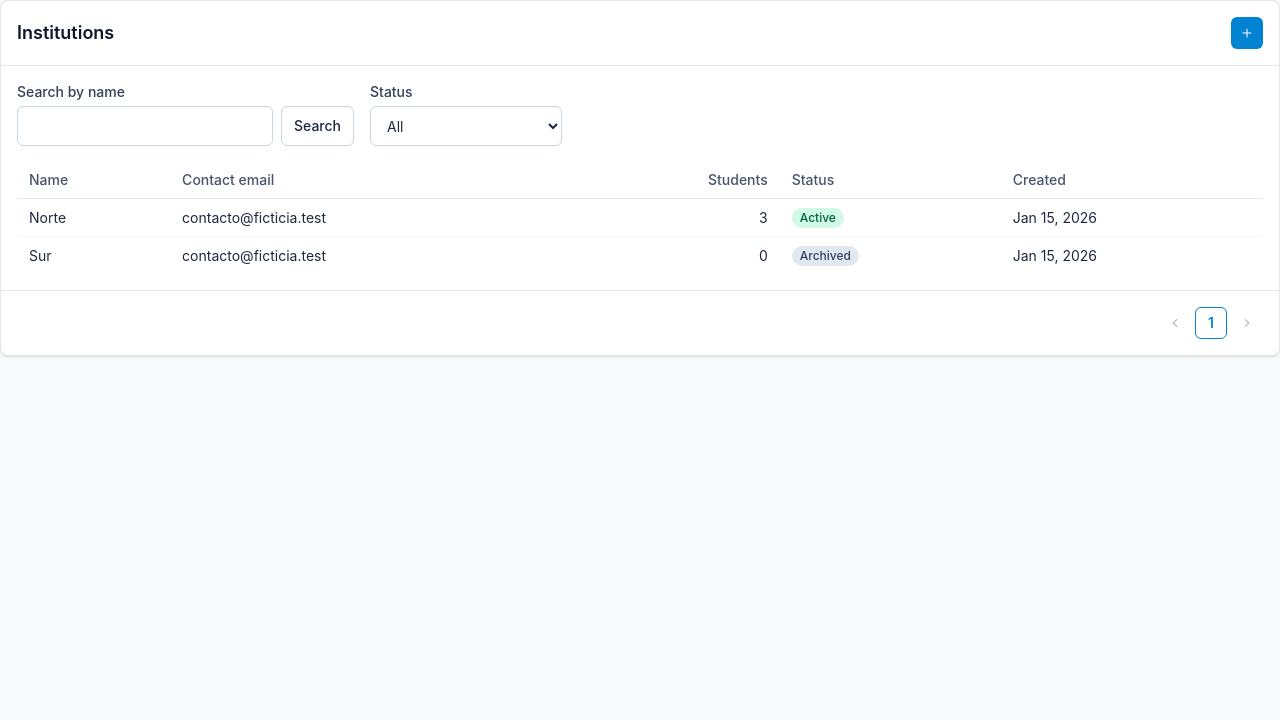
Scenario: InstitutionsListPage › opens the create form in a dialog and closes it on cancel
Expected: the table is shown, [17,162,1263,274]
Step 1. Click the button named "New institution" → [1247, 33], box [1231,17,1263,49]
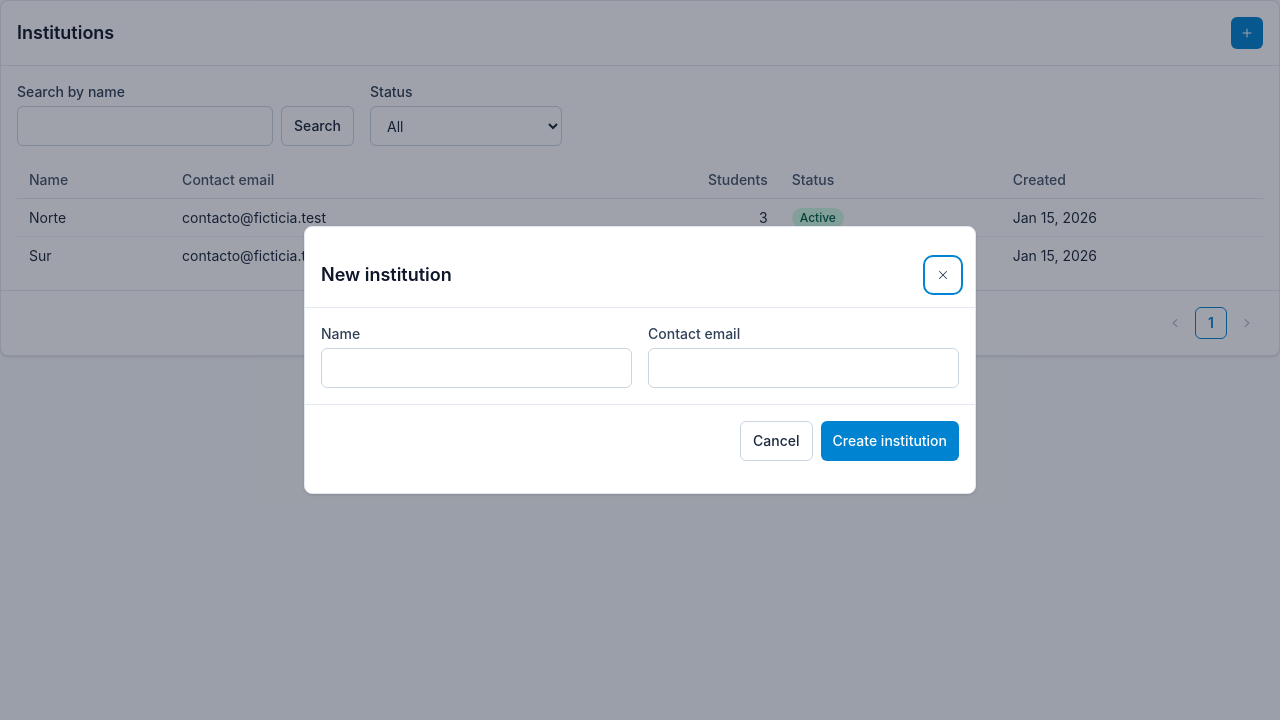
Expected: the field labelled "Name" is empty, [321,348,632,388]
Step 2. Click the button "Cancel" → [776, 441], box [740,421,813,461]
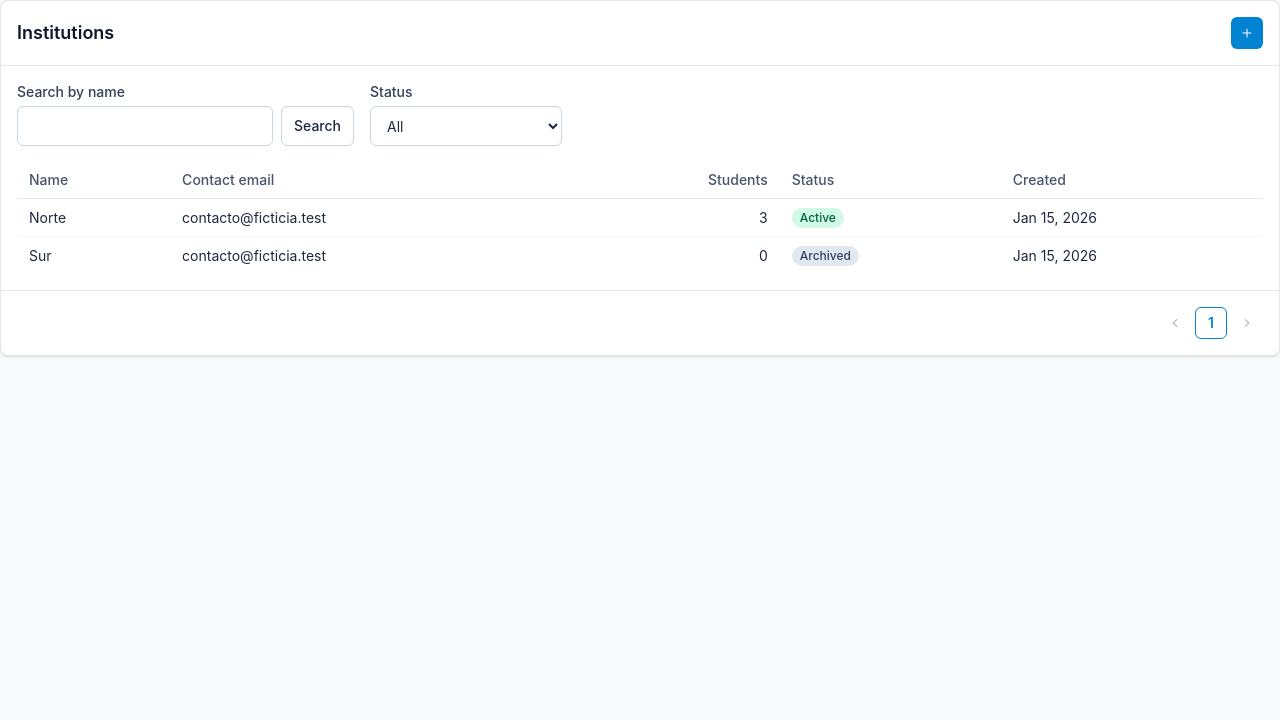
Expected: the button named "New institution" is shown, [1231,17,1263,49]
Expected: the dialog is gone
